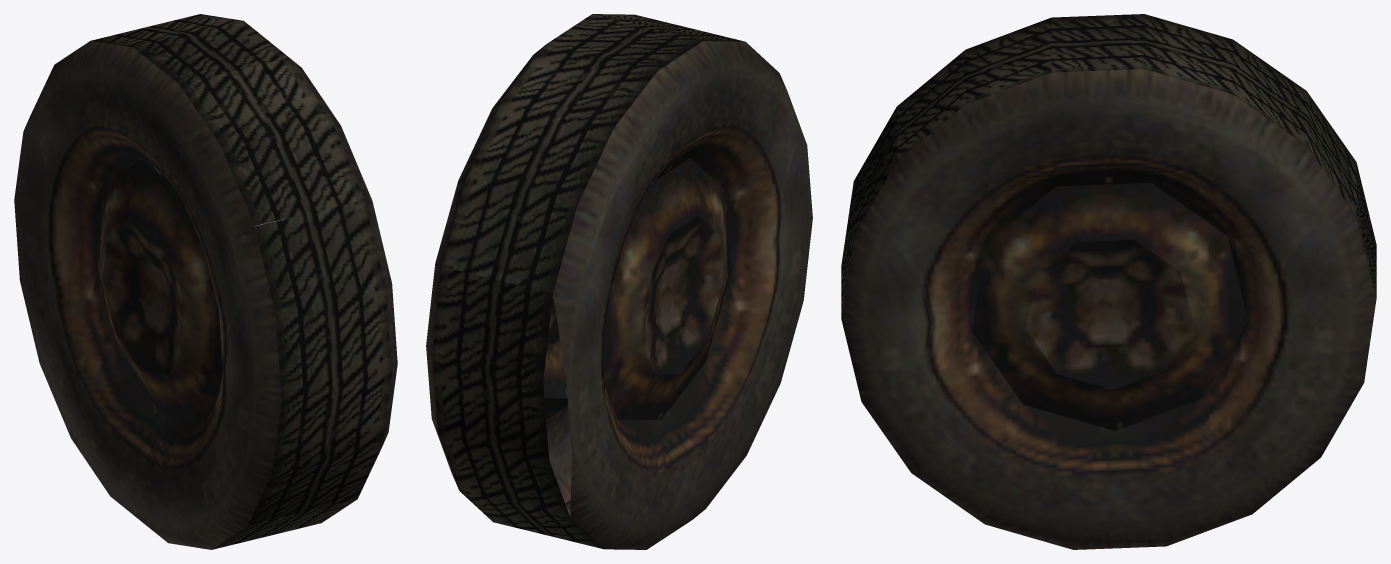
The model's file is wheel.glb.
3 renders of one model, left to right at view 1: azimuth 30°, elevation 25°; view 2: azimuth 150°, elevation 25°; view 3: azimuth 270°, elevation 25°, orthographic. The views are drawn at different scales.
Parts seen in each view (by area): view 1: wheel; view 2: wheel; view 3: wheel.
Part boxes in pixels (x1,y1,x2,y2): wheel: [14, 14, 397, 549]; wheel: [426, 14, 812, 549]; wheel: [841, 14, 1376, 549].
Size of the model in its own units: 0.2013 by 0.6512 by 0.6564.
1 material, 1 textured.
